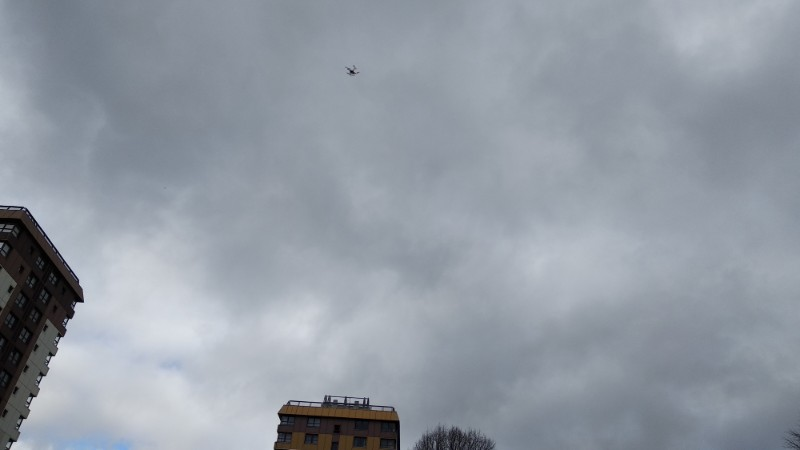drone: (345, 65, 359, 76)
